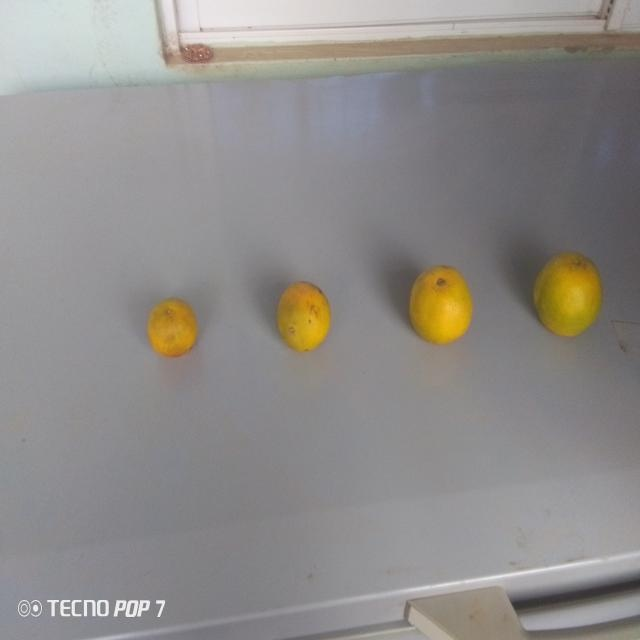agrume: (523, 253, 604, 343), (405, 261, 477, 348), (278, 281, 338, 362), (147, 292, 200, 364)
